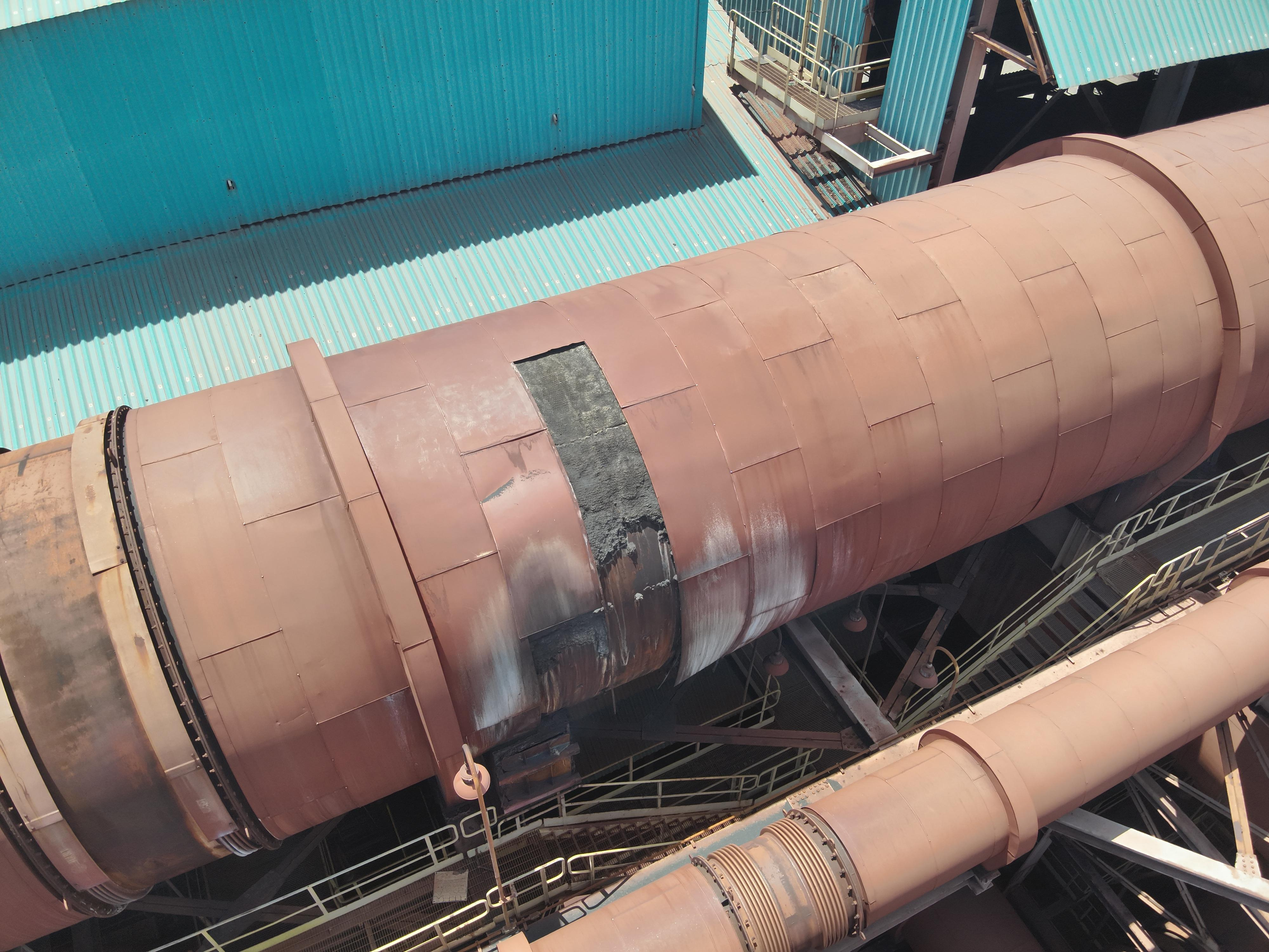Failures: (507, 341, 687, 701)
